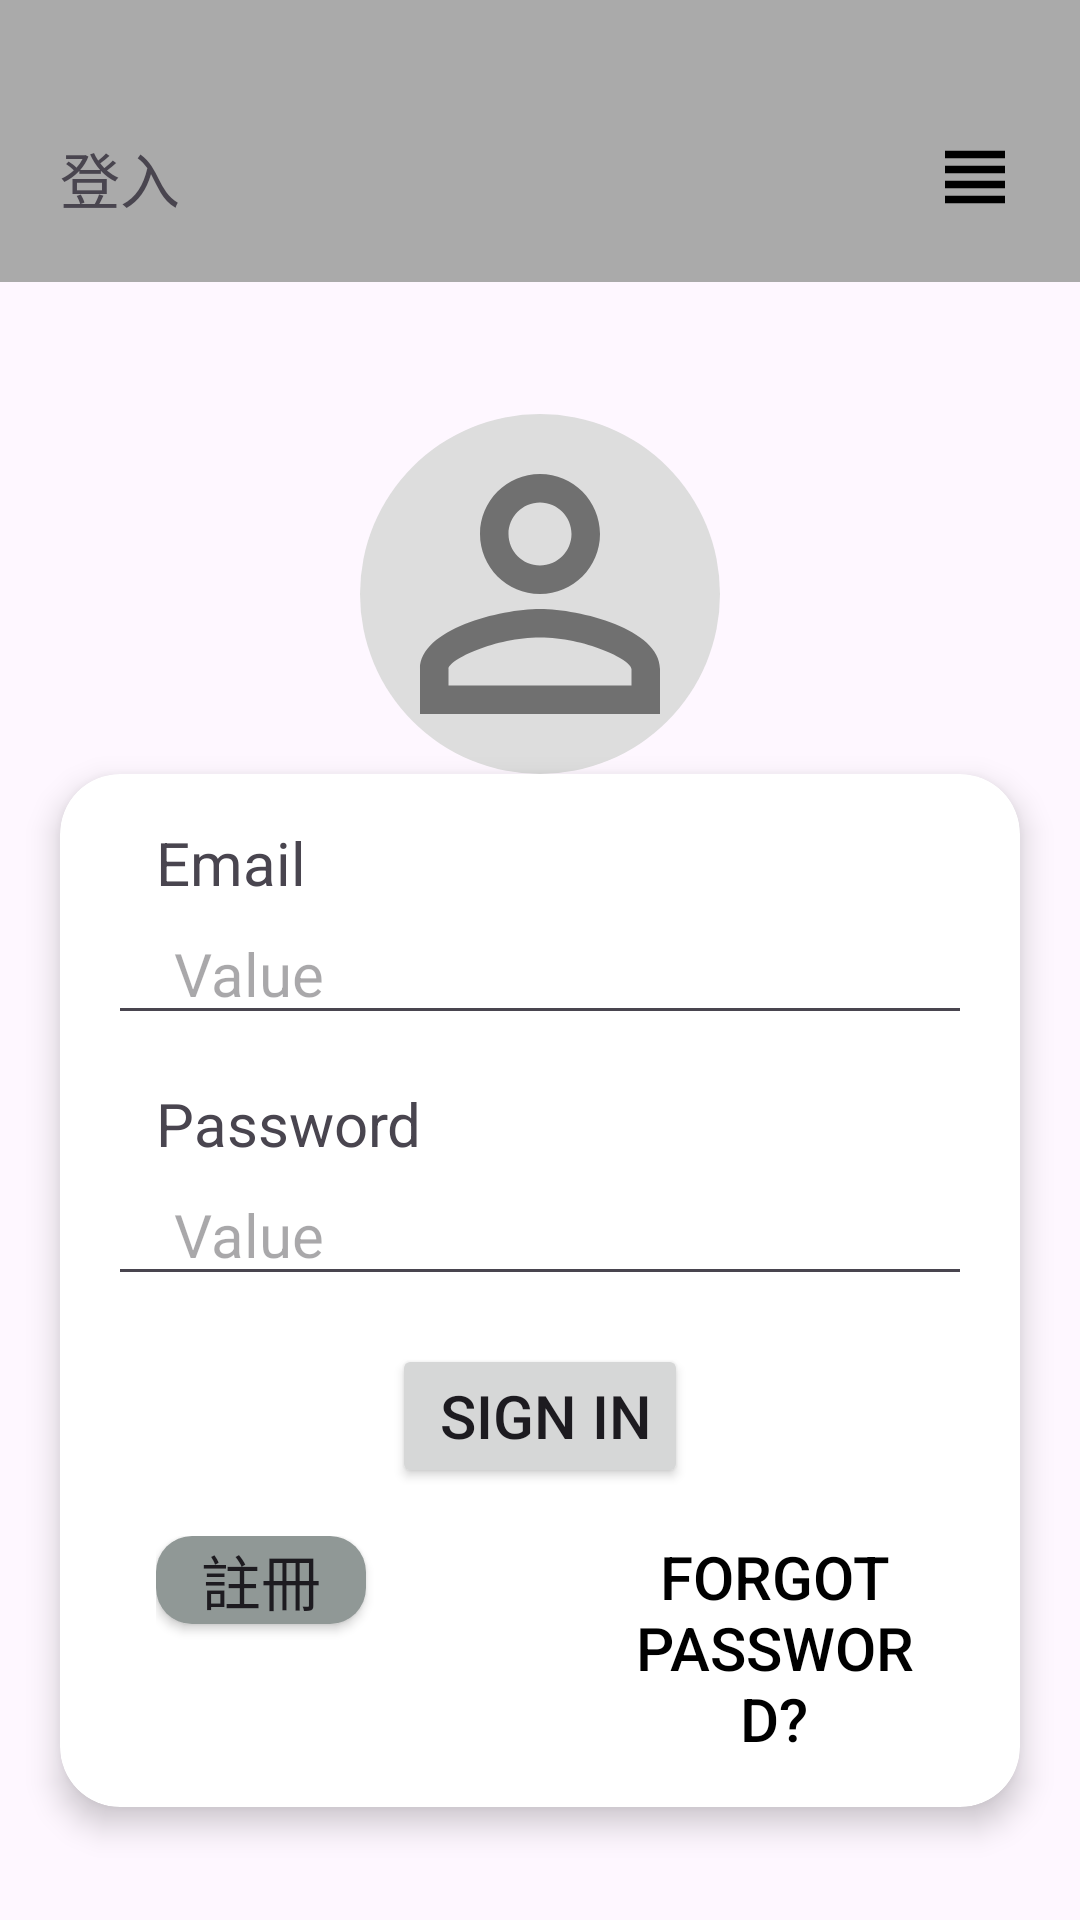

Named icons in this screenshot (1080px×1920px) and their bounding boxes, (x1, y1, x2, y2):
上傳頭像: (360, 414, 720, 774)
其他: (945, 150, 1005, 204)
